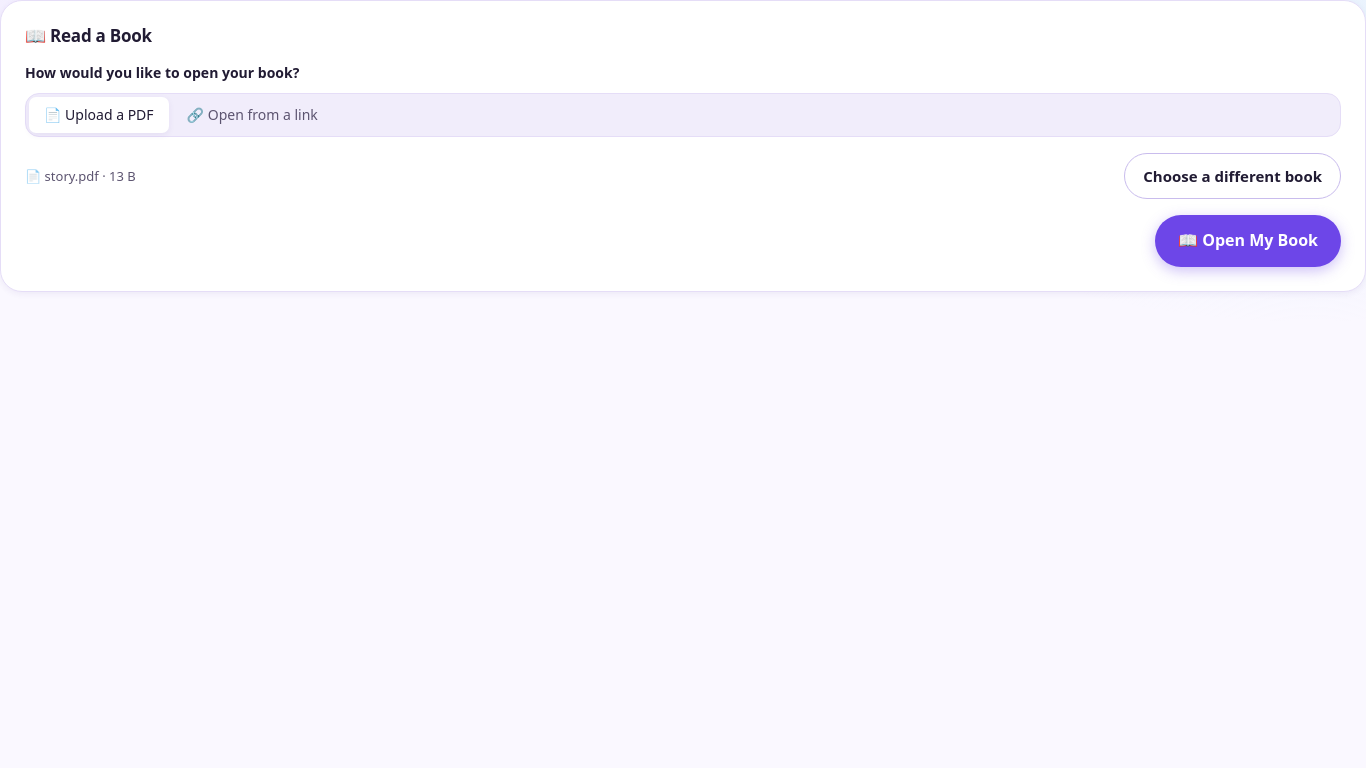
Test case: BookReaderForm › blocks a cloned voice for a language it cannot speak, in plain words
Earlier steps of the test are not shown.
Step 1. Click the button with test id "load-book-submit" → (1248, 241), box [1155,215,1341,267]
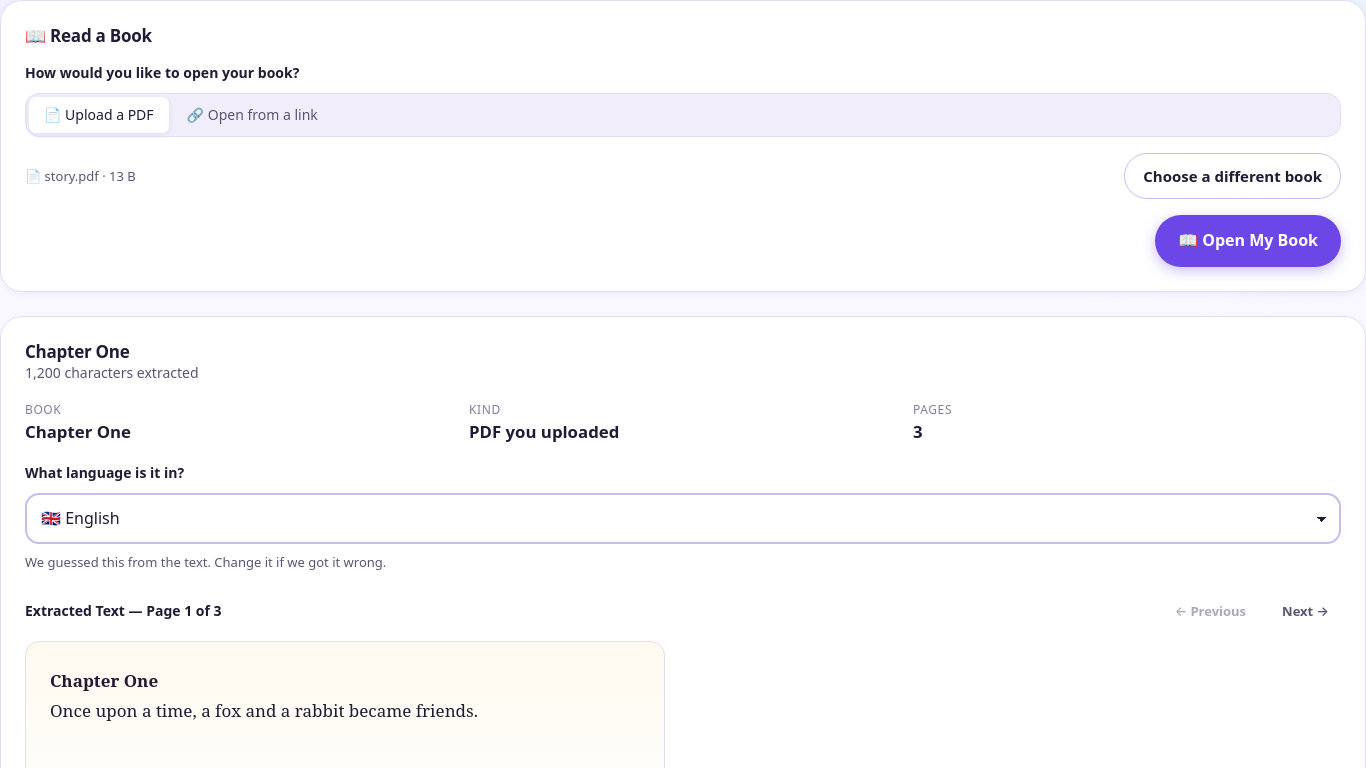
Expected: the heading "Chapter One" is shown, [25,340,130,363]
Step 2. Select "🇦🇲 Հայերեն" in the dropdown with test id "book-language-select" → (683, 518), box [25,493,1341,544]
(page scrolled)
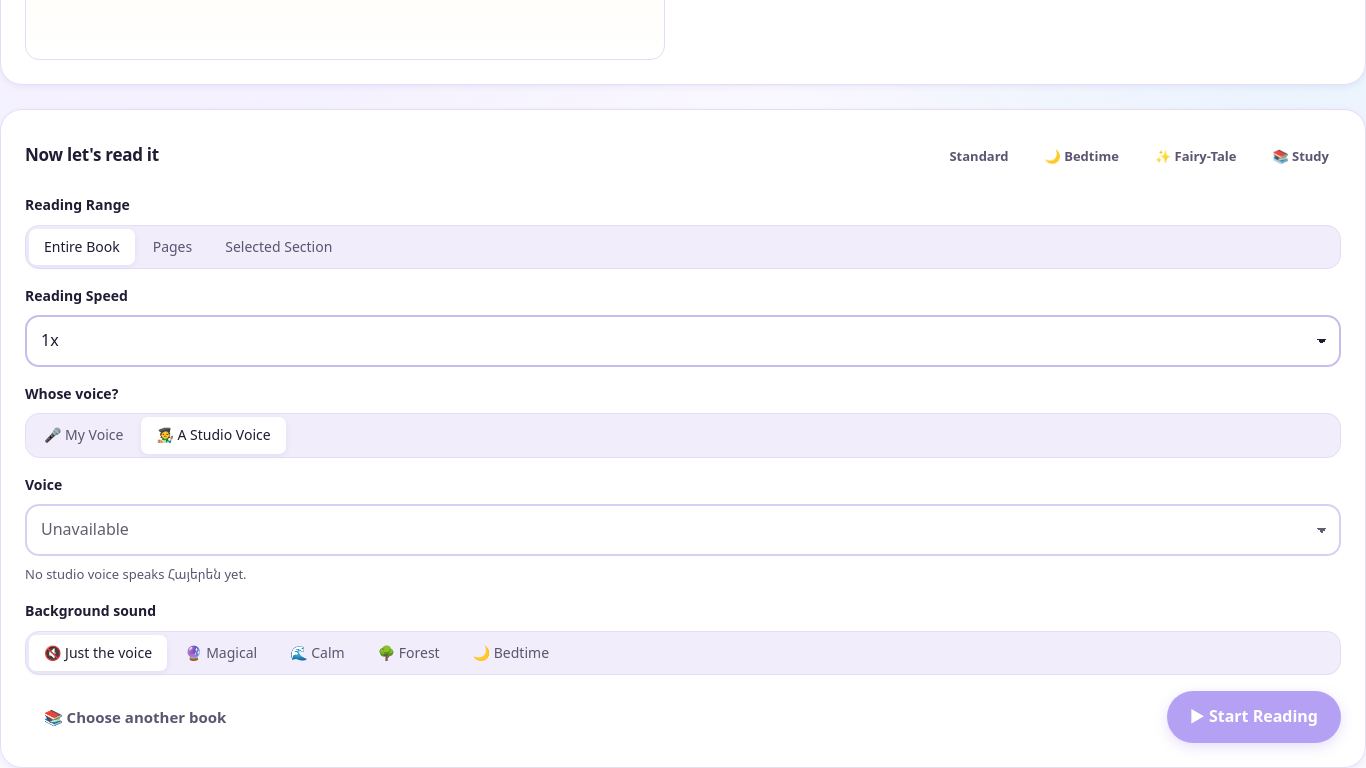
Step 3. Click the button with test id "voice-source-cloned" → (84, 436), box [29,417,138,454]
(page scrolled)
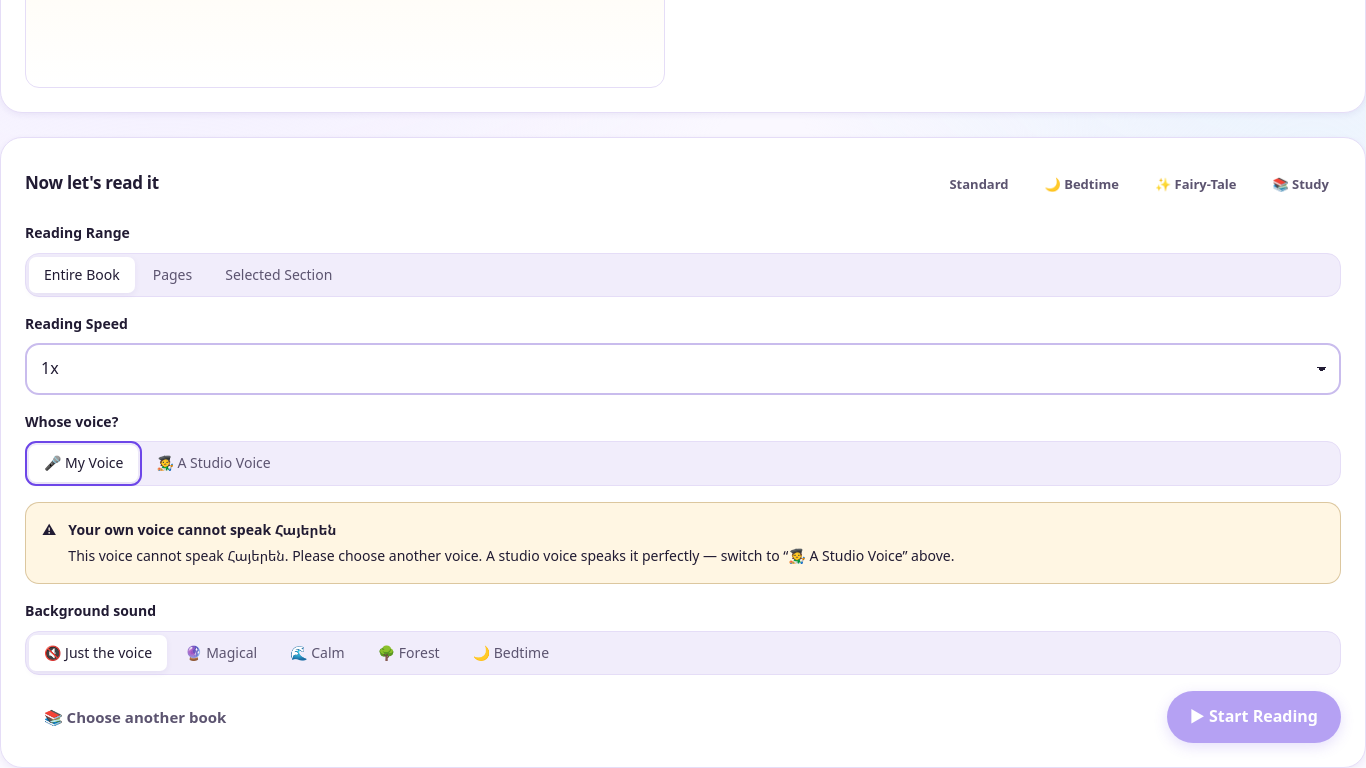
Expected: the button with test id "narrate-book-submit" is disabled, [1167,691,1341,743]
Expected: the text "This voice cannot speak Հայերեն. Please choose another voice." is shown, [68,546,482,565]
